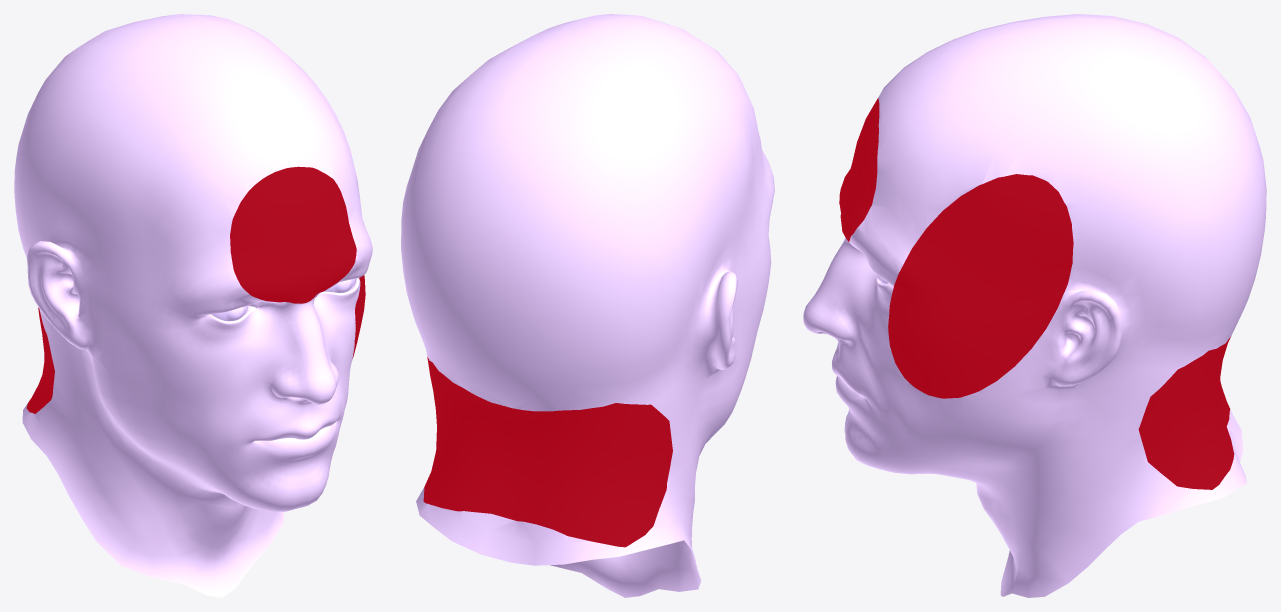
The model's file is Post_Tramatic.glb.
3 views of the same model, side by side, from view 1: azimuth 30°, elevation 25°; view 2: azimuth 150°, elevation 25°; view 3: azimuth 270°, elevation 25° (orthographic). The views are drawn at different scales.
Parts seen in each view (by area): view 1: man_body_0014 uv map_Material.004_0.001, man_body_0014 uv map; view 2: man_body_0014 uv map_Material.004_0.001, man_body_0014 uv map; view 3: man_body_0014 uv map_Material.004_0.001, man_body_0014 uv map.
Boxes of the visible parts, x1=… form: man_body_0014 uv map_Material.004_0.001: x1=14, y1=14, x2=372, y2=597; man_body_0014 uv map: x1=26, y1=166, x2=365, y2=413; man_body_0014 uv map_Material.004_0.001: x1=401, y1=14, x2=774, y2=597; man_body_0014 uv map: x1=423, y1=357, x2=672, y2=547; man_body_0014 uv map_Material.004_0.001: x1=803, y1=14, x2=1266, y2=597; man_body_0014 uv map: x1=839, y1=98, x2=1234, y2=489.
Bounding box in the file's own units: 0.1766 × 0.3089 × 0.2292.
